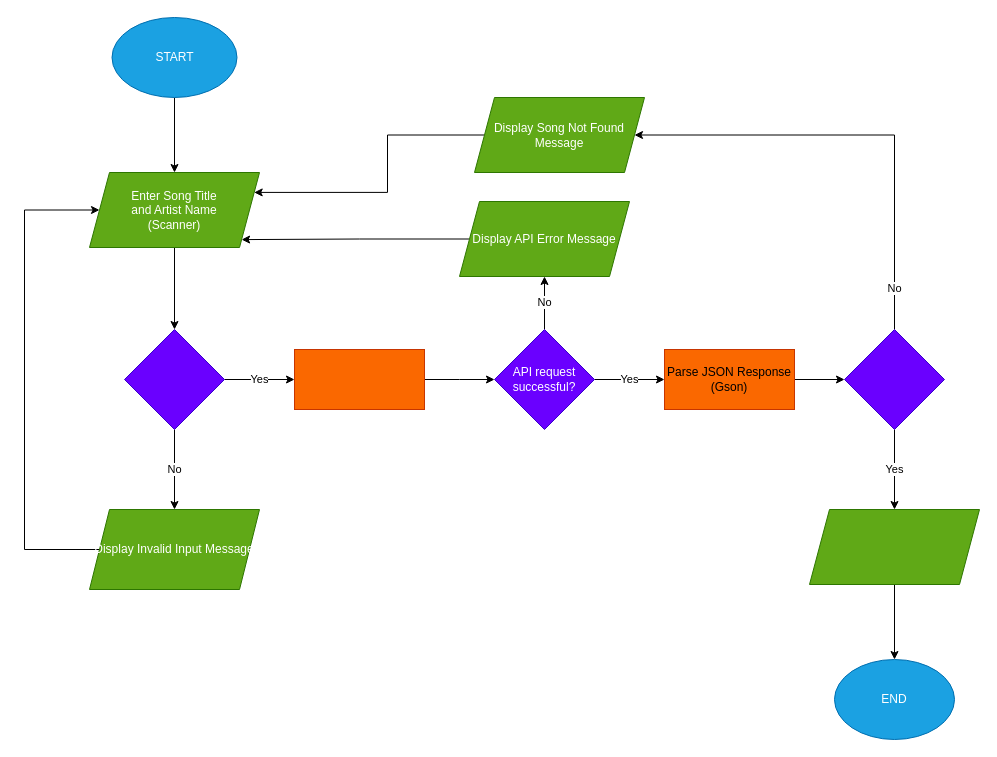
The diagram is 997 pixels wide and 757 high, and some of its shapes have lost their labels. The centre of each missing label's shape, as x and y in pixels:
"Display Genius URL" belongs at [894,546].
"Inputs valid?" belongs at [174,379].
"Matching Song Found?" belongs at [894,379].
"Send Search Request to Genius API (HttpClient)" belongs at [359,379].
